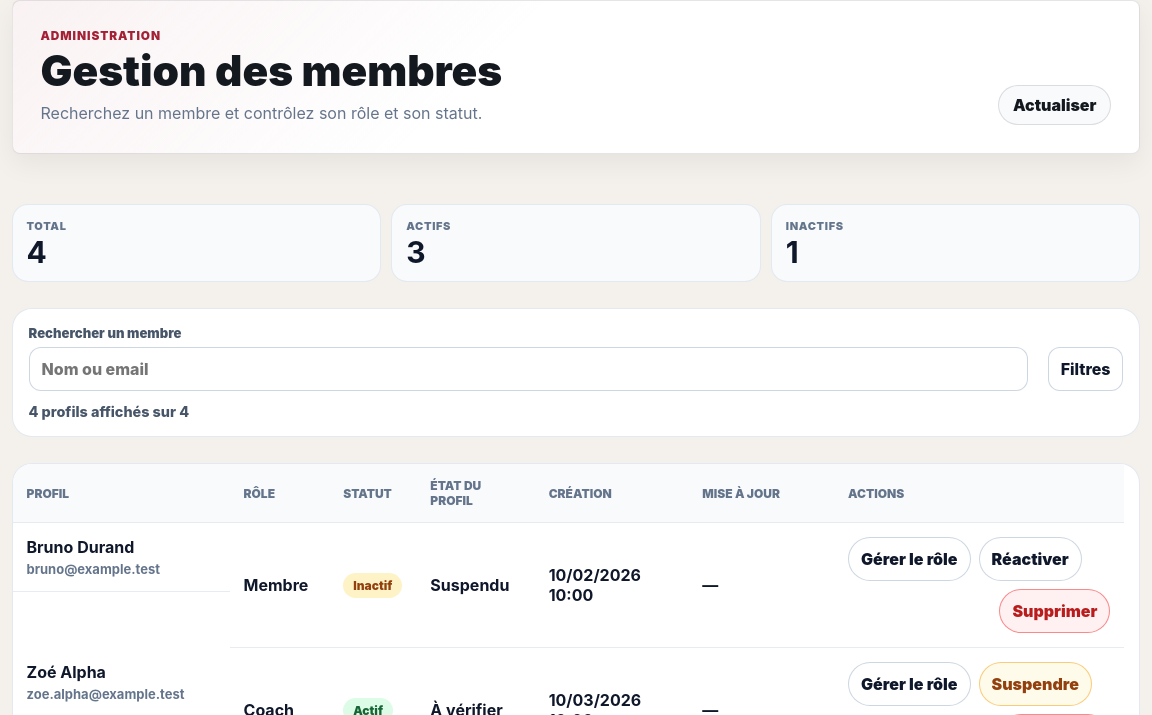
Scenario: recherche et filtres des membres › recherche par email et efface la recherche sans recharger la page
The image size is (1152, 715).
Type "ELODIE.BERNARD@EXAMPLE.TEST" into the search field labelled "Rechercher un membre".
click(528, 370); type("ELODIE.BERNARD@EXAMPLE.TEST")  # box [28, 348, 1028, 392]
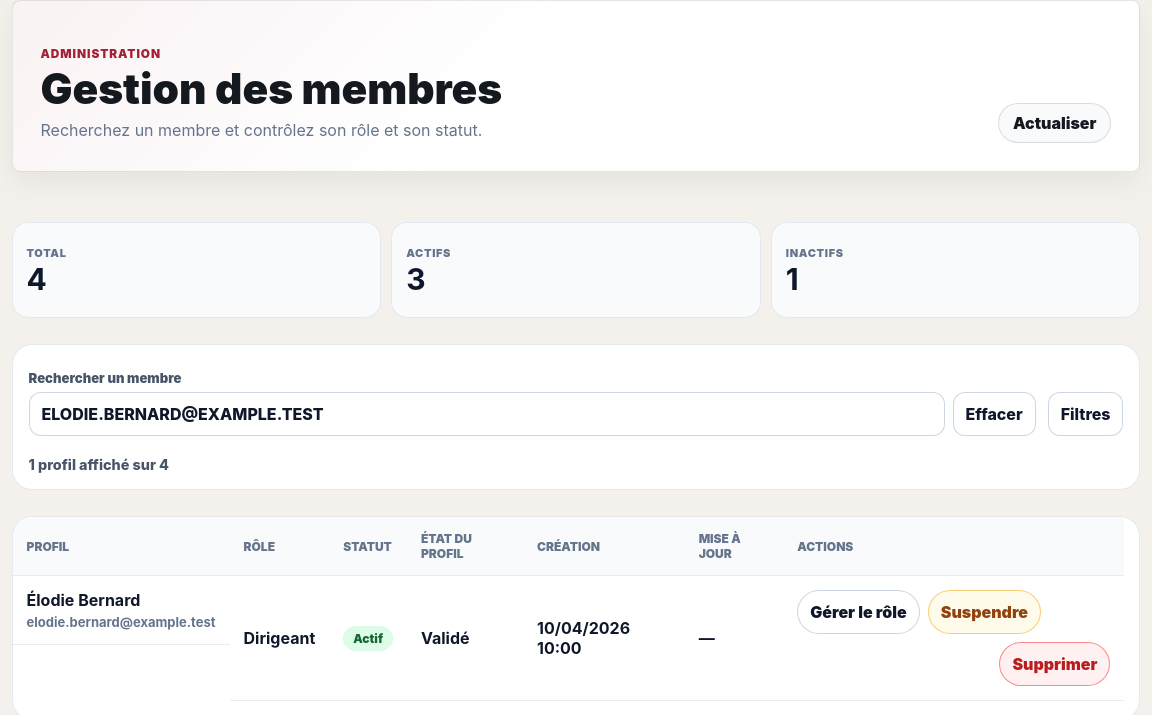
Expected: the text "Élodie Bernard" is shown, [26, 590, 140, 610]
Click the button named "Effacer la recherche".
click(994, 414)  # box [952, 392, 1036, 436]
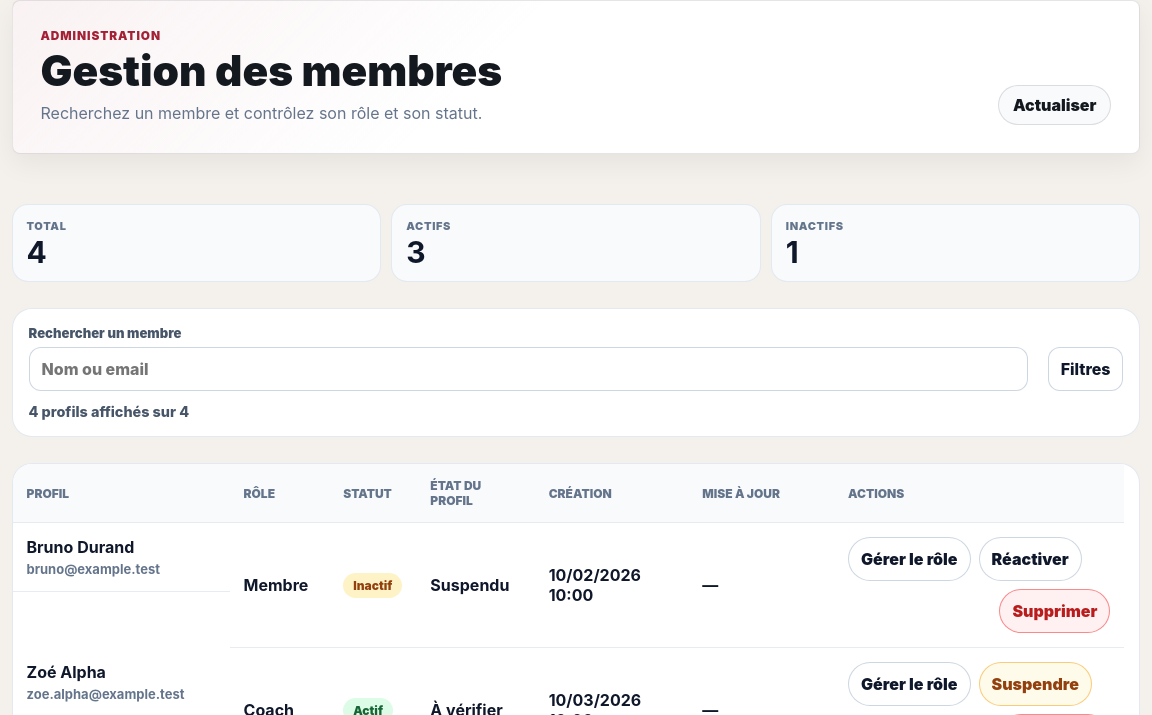
Result: the search field labelled "Rechercher un membre" is empty at [28, 348, 1028, 392]
